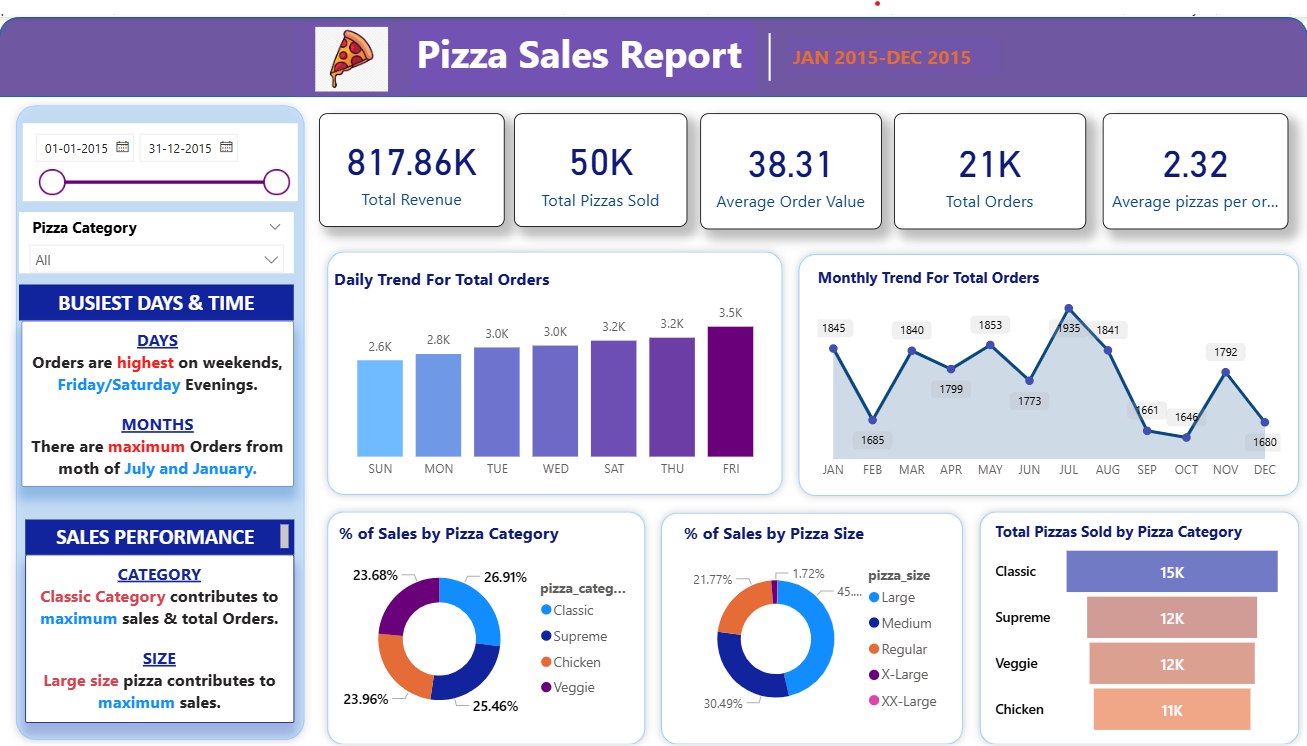

The dashboard page shown, as its layout file describes it:
{"tool":"powerbi","page":{"name":"Home","canvas":[1280,720],"ordinal":0},"visuals":[{"type":"card","fields":{"Values":["pizza_sales.Total Revenue"]},"box":[312.9,94.8,181.6,111],"z":0,"group":"g1"},{"type":"group","id":"g1","title":"Group 1","box":[312.9,94.3,948.6,114.3],"z":0},{"type":"shape","box":[0,0,1280.3,78.3],"z":1000},{"type":"card","fields":{"Values":["pizza_sales.Total Pizzas Sold"]},"box":[503.1,94.3,169.6,111.4],"z":1000,"group":"g1"},{"type":"card","fields":{"Values":["pizza_sales.Average Order Value"]},"box":[685.6,94.3,177.4,113.8],"z":2000,"group":"g1"},{"type":"shape","box":[312.9,221.4,461.4,254.3],"z":2000},{"type":"card","fields":{"Values":["pizza_sales.Total Orders"]},"box":[875.8,94.3,187.6,113.8],"z":3000,"group":"g1"},{"type":"columnChart","title":"Daily Trend For Total Orders","fields":{"Y":["pizza_sales.Total Orders"],"Category":["pizza_sales.Order Day"]},"box":[322.9,244.3,444.3,215.7],"z":3000},{"type":"card","fields":{"Values":["pizza_sales.Average pizzas per order"]},"box":[1079.9,94.8,181.6,113.8],"z":4000,"group":"g1"},{"type":"shape","box":[774.3,224.3,505.7,252.9],"z":4000},{"type":"areaChart","title":"Monthly Trend For Total Orders","fields":{"Category":["pizza_sales.Order Month"],"Y":["pizza_sales.Total Orders"]},"box":[795.7,244.3,462.9,217.1],"z":5000},{"type":"shape","box":[312.9,475.7,327.1,244.3],"z":6000},{"type":"shape","box":[640,477.1,311.4,242.9],"z":7000},{"type":"shape","box":[951.4,475.7,328.6,244.3],"z":8000},{"type":"donutChart","title":"% of Sales by Pizza Category","fields":{"Category":["pizza_sales.pizza_category"],"Y":["pizza_sales.Total Revenue"]},"box":[327.1,492.9,298.6,210],"z":9000},{"type":"donutChart","title":"% of Sales by Pizza Size","fields":{"Category":["pizza_sales.pizza_size"],"Y":["pizza_sales.Total Revenue"]},"box":[665.7,492.9,270,210],"z":10000},{"type":"funnel","title":"Total Pizzas Sold by Pizza Category","fields":{"Category":["pizza_sales.pizza_category"],"Y":["pizza_sales.Total Pizzas Sold"]},"box":[970,492.9,291.4,214.3],"z":11000},{"type":"shape","box":[8.6,78.3,298.4,637.1],"z":12000},{"type":"textbox","box":[19.6,261.7,269,35.5],"z":13000},{"type":"textbox","box":[22,297.1,266.6,162.6],"z":14000},{"type":"textbox","box":[25.7,525.8,262.9,165.1],"z":15000},{"type":"textbox","box":[25.7,491.6,262.9,34.2],"z":16000},{"type":"slicer","title":"Pizza Category","fields":{"Values":["pizza_sales.pizza_category"]},"box":[19.6,190.8,269,59.9],"z":17000},{"type":"slicer","title":"Pizza Category","fields":{"Values":["pizza_sales.order_date"]},"box":[23.2,103.9,269,75.8],"z":18000},{"type":"textbox","box":[403.5,4.9,336.3,67.3],"z":19000},{"type":"image","box":[288.6,4.9,112.5,73.4],"z":20000},{"type":"textbox","box":[771.6,20.8,207.9,37.9],"z":21000},{"type":"shape","box":[720.2,15.9,67.3,46.5],"z":22000}]}

Visuals, with their boxes in screenshot pixels (x1, y1, x2, y2), scaled from the page's 1280x720 canvas onto the 1307x746 screenshot:
card - pizza_sales.Total Revenue: box=[320, 98, 505, 213]
"Group 1" group: box=[320, 98, 1288, 216]
shape: box=[0, 0, 1306, 81]
card - pizza_sales.Total Pizzas Sold: box=[514, 98, 687, 213]
card - pizza_sales.Average Order Value: box=[700, 98, 881, 216]
shape: box=[320, 229, 791, 493]
card - pizza_sales.Total Orders: box=[894, 98, 1086, 216]
"Daily Trend For Total Orders" columnChart: box=[330, 253, 783, 477]
card - pizza_sales.Average pizzas per order: box=[1103, 98, 1288, 216]
shape: box=[791, 232, 1306, 494]
"Monthly Trend For Total Orders" areaChart: box=[812, 253, 1285, 478]
shape: box=[320, 493, 654, 745]
shape: box=[654, 494, 971, 745]
shape: box=[971, 493, 1306, 745]
"% of Sales by Pizza Category" donutChart: box=[334, 511, 639, 728]
"% of Sales by Pizza Size" donutChart: box=[680, 511, 955, 728]
"Total Pizzas Sold by Pizza Category" funnel: box=[990, 511, 1288, 733]
shape: box=[9, 81, 313, 741]
textbox: box=[20, 271, 295, 308]
textbox: box=[22, 308, 295, 476]
textbox: box=[26, 545, 295, 716]
textbox: box=[26, 509, 295, 545]
"Pizza Category" slicer: box=[20, 198, 295, 260]
"Pizza Category" slicer: box=[24, 108, 298, 186]
textbox: box=[412, 5, 755, 75]
image: box=[295, 5, 410, 81]
textbox: box=[788, 22, 1000, 61]
shape: box=[735, 16, 804, 65]
